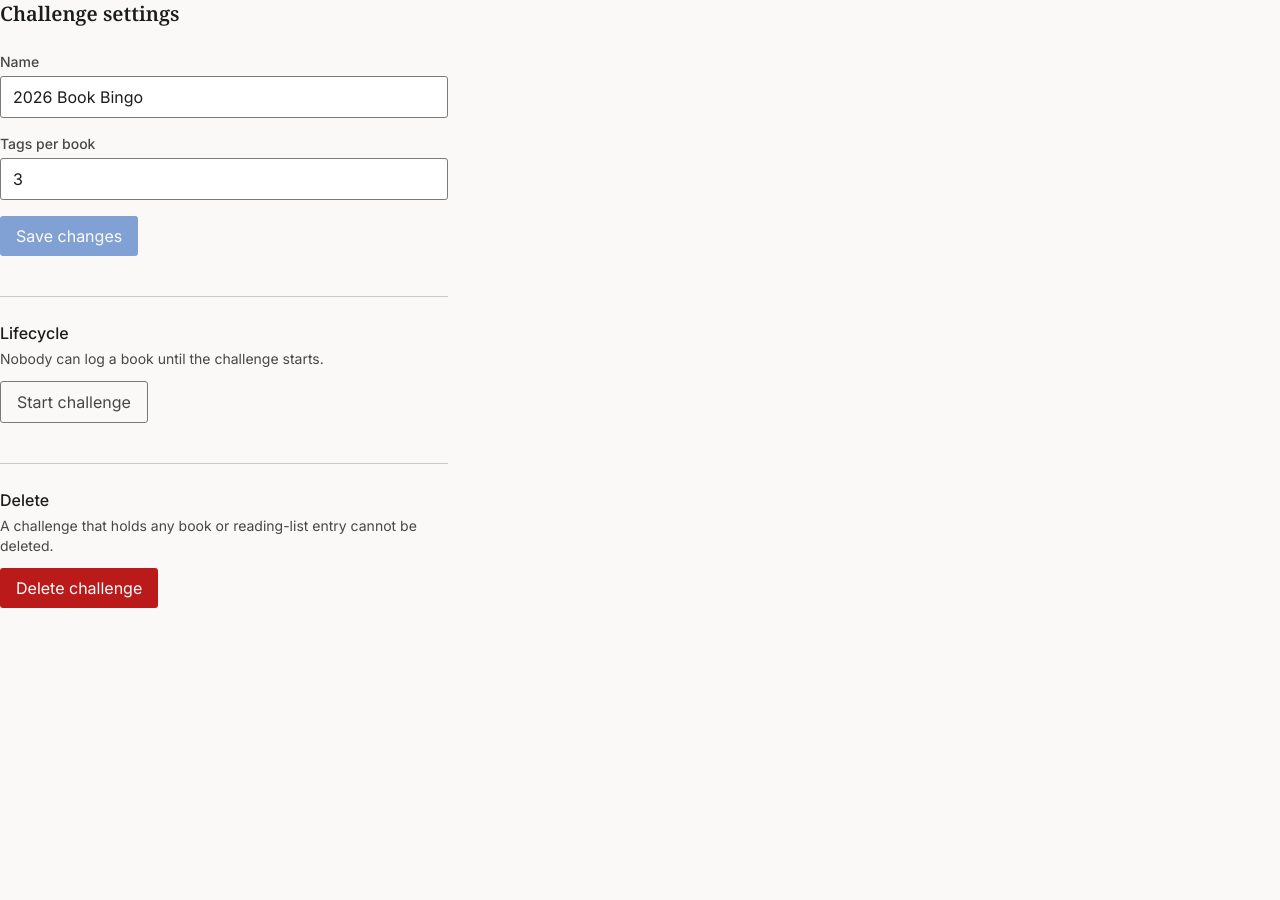
Test: ChallengeSettingsPage › starts the challenge only after the confirmation is accepted
This screenshot has width=1280, height=900.
Click the button "Start challenge" at point(74, 402), box [0,381,148,423]
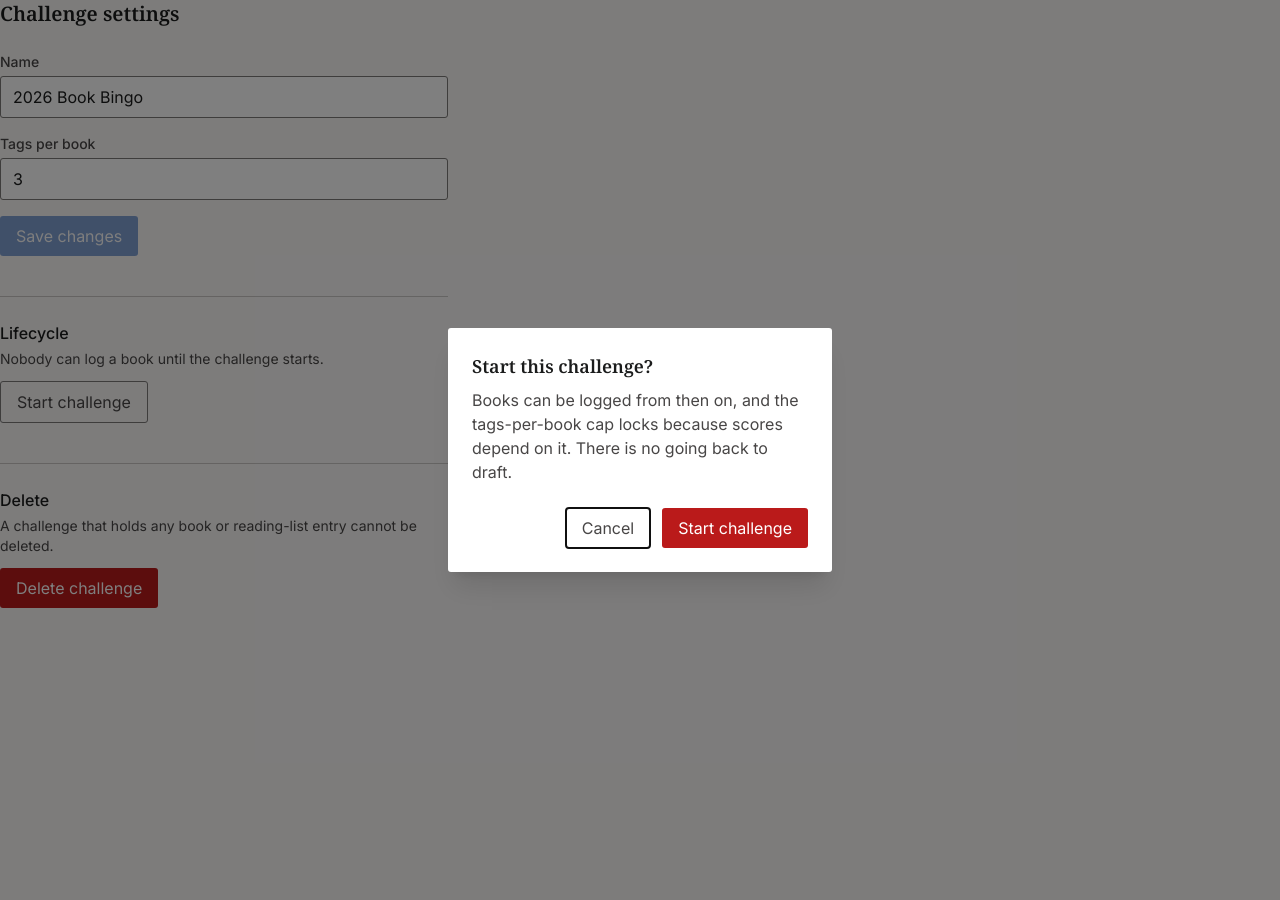
Click the button "Start challenge" at point(735, 528), box [662,508,808,548]
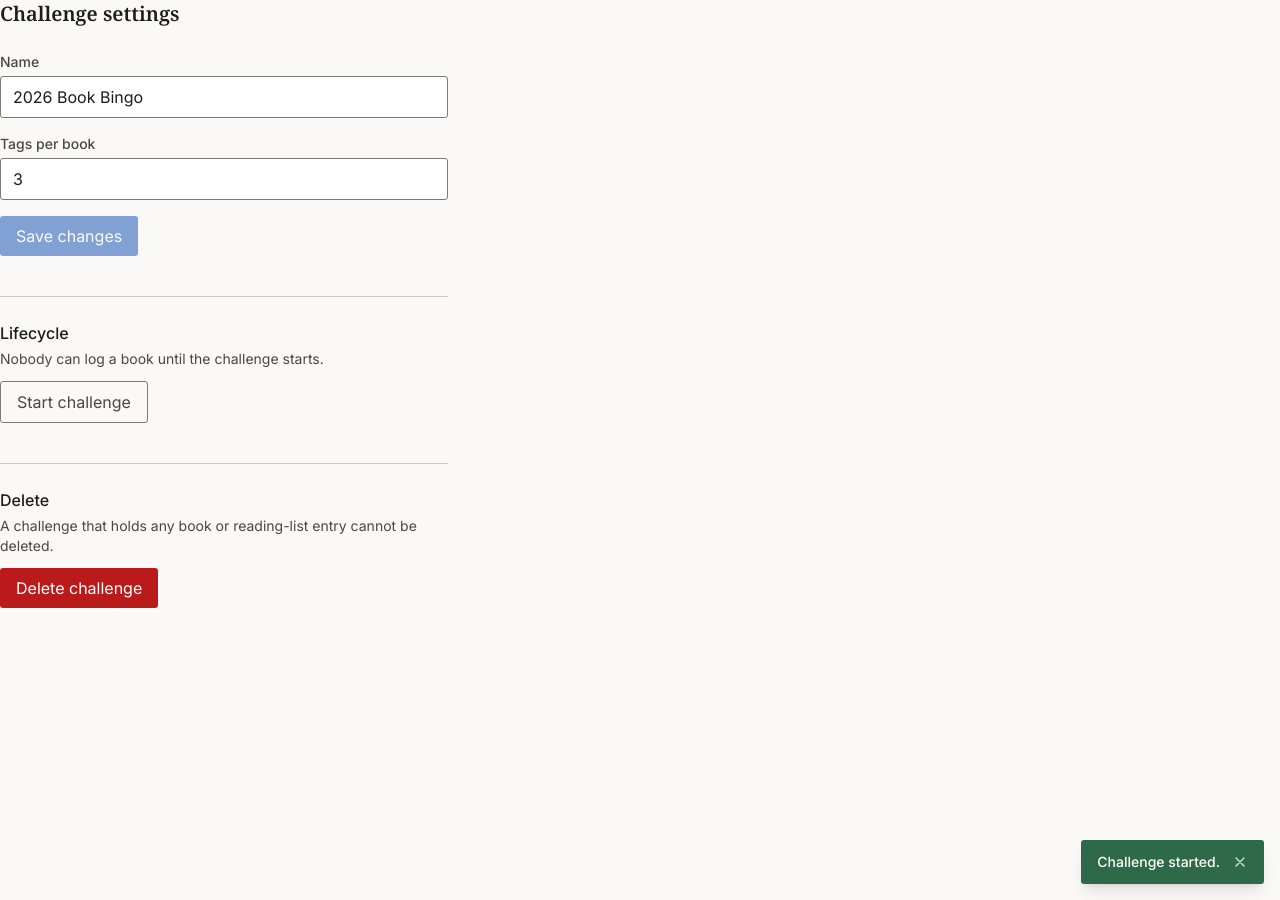
Check: the text "Challenge started." is shown, box [1097,852,1220,872]
